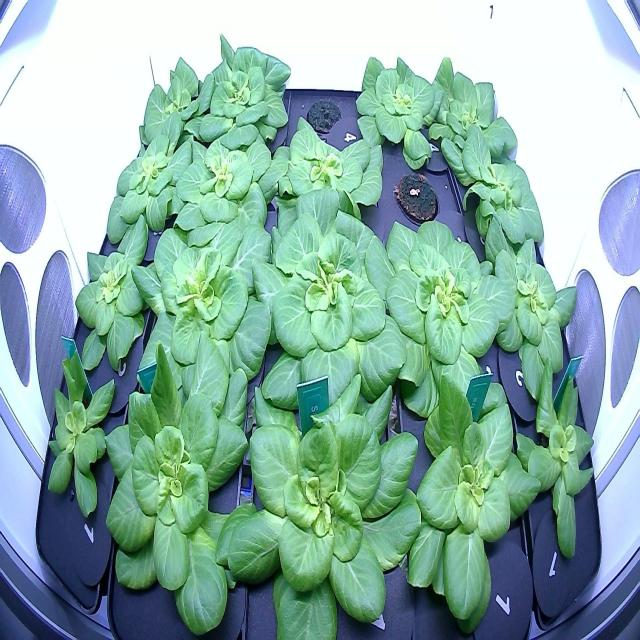germination: (390, 165, 442, 230)
pod: (301, 92, 347, 140)
young: (211, 366, 435, 639), (94, 339, 255, 637), (240, 186, 412, 427), (403, 366, 545, 629), (127, 195, 283, 426), (363, 216, 525, 418), (473, 222, 582, 409), (510, 354, 599, 569), (71, 204, 168, 378), (264, 107, 386, 233), (433, 124, 552, 249), (102, 103, 196, 259), (170, 118, 291, 238), (181, 29, 293, 152), (41, 349, 122, 518), (419, 51, 525, 166), (353, 51, 448, 172), (133, 46, 214, 166)
